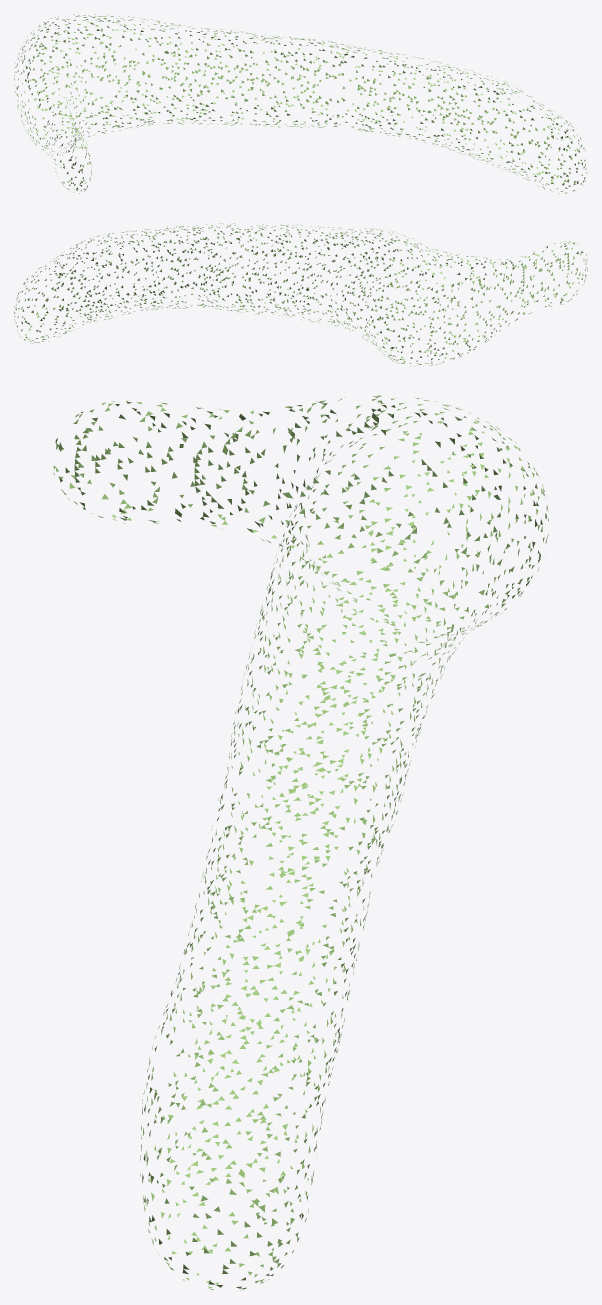
File: morph_013.glb
The picture shows the model from 3 angles, top to bottom: view 1: azimuth 30°, elevation 25°; view 2: azimuth 150°, elevation 25°; view 3: azimuth 270°, elevation 25°; orthographic projection. The views are drawn at different scales.
Size of the model in its own units: 130 by 54.7 by 53.11.
